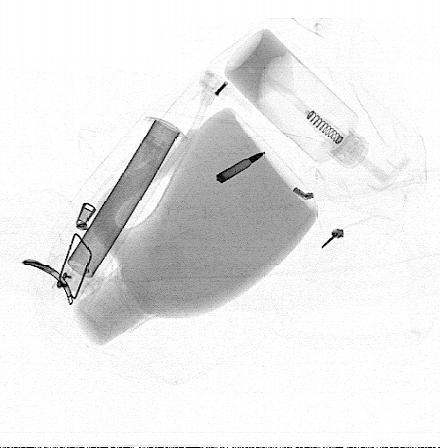Bullet: (216, 152, 266, 184)
